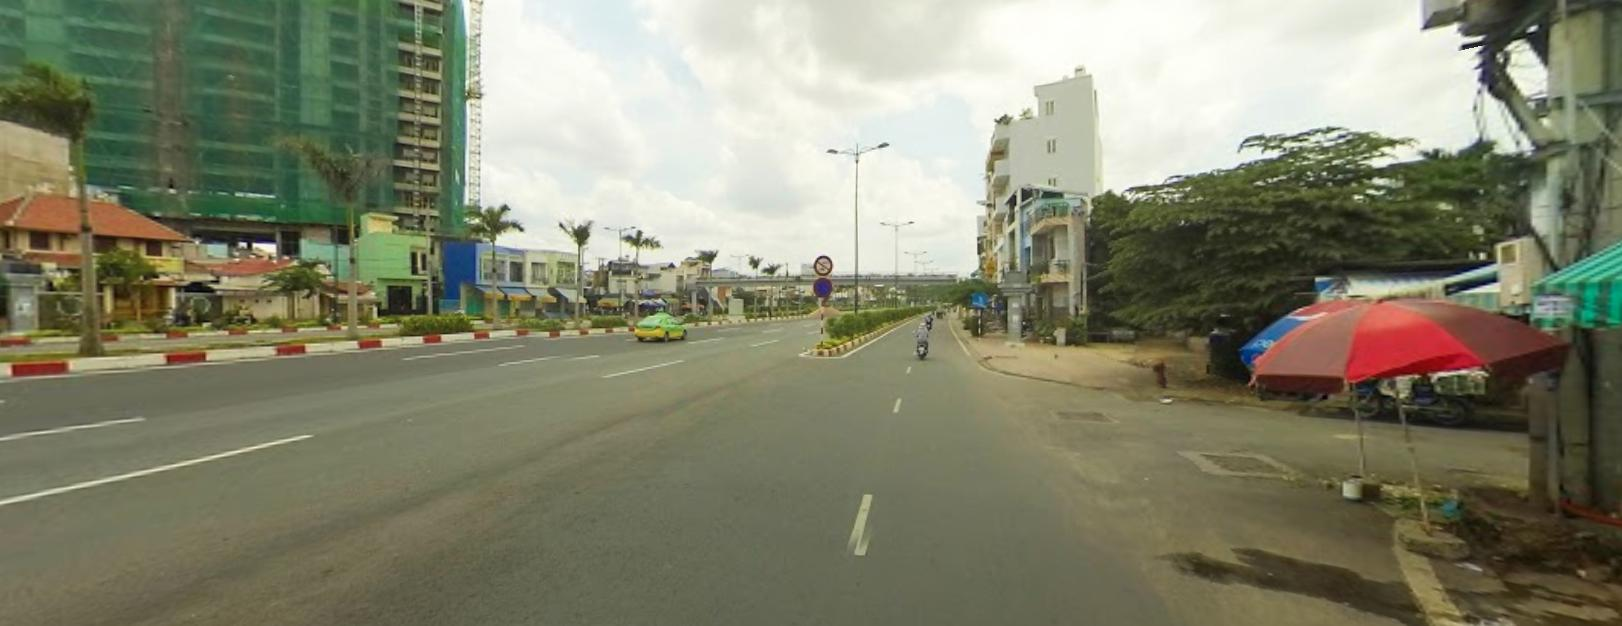Cam con lai: (813, 253, 832, 274)
Cam dung va do: (814, 276, 832, 295)
